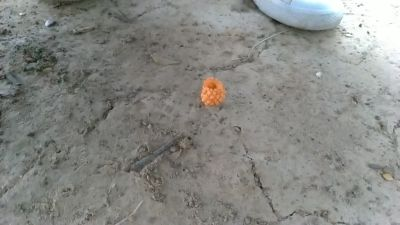eggs: (202, 75, 228, 114)
